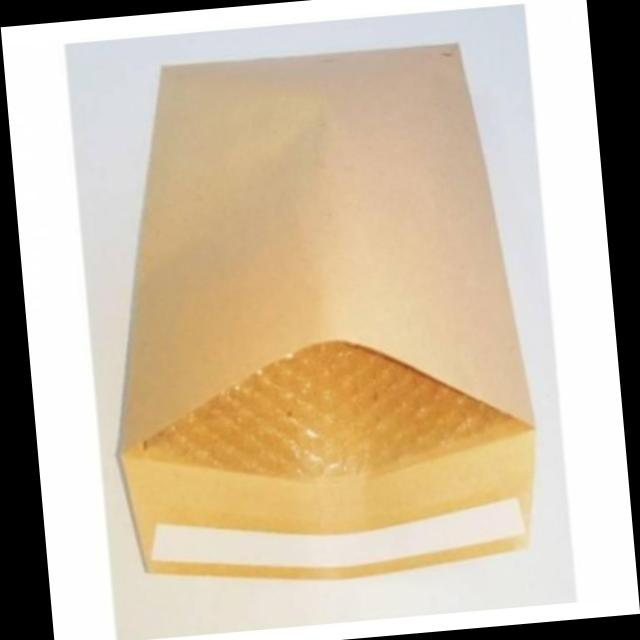mailer: (121, 46, 534, 577)
